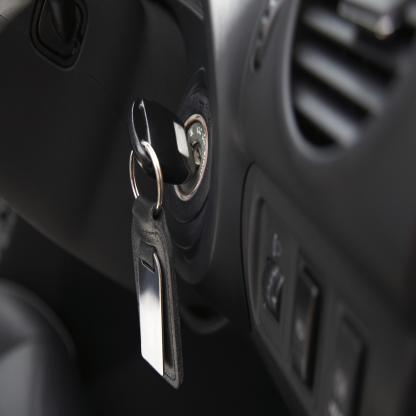keys: (127, 100, 200, 210)
